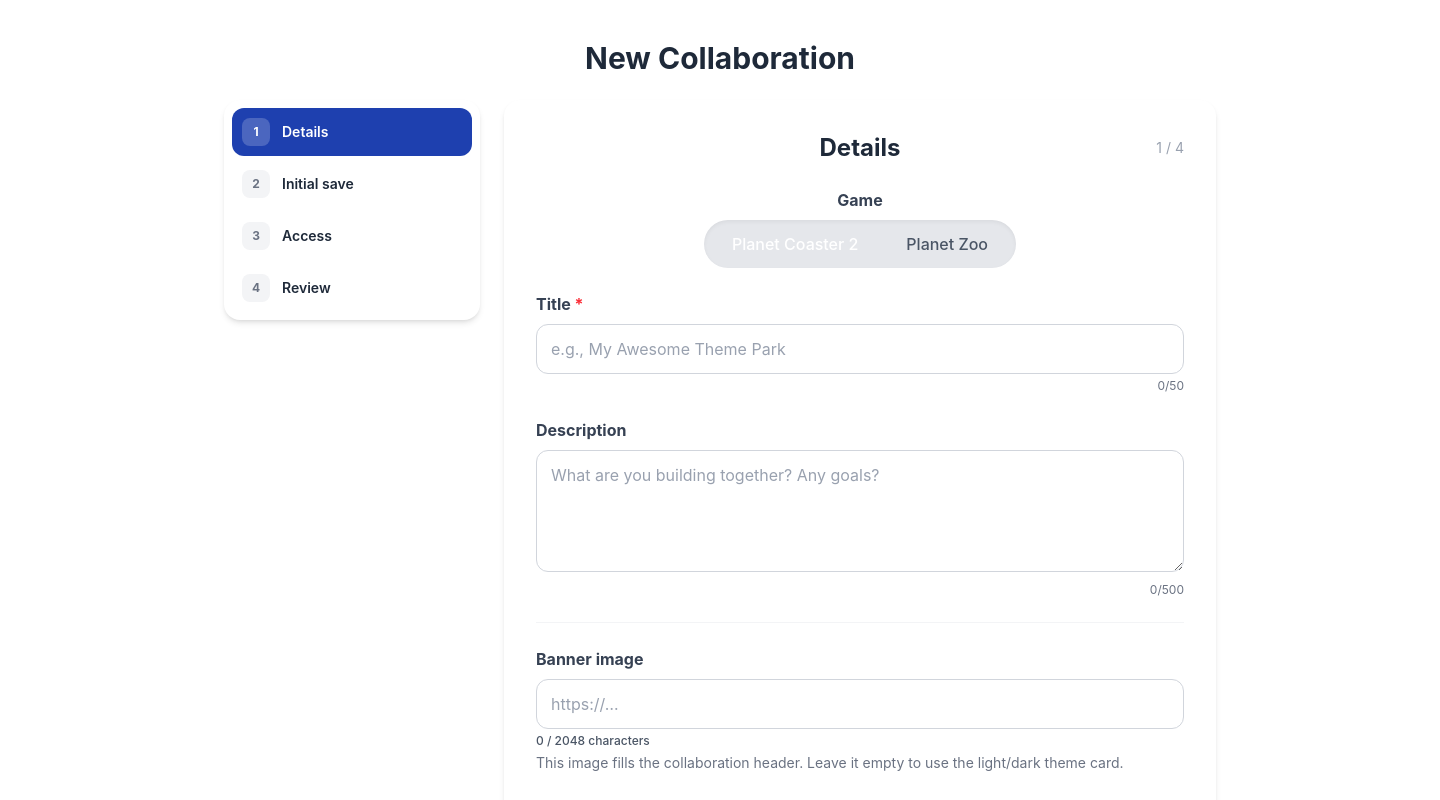
Test: CreateCollaborationForm › uses the normal creation file selector for the required initial save
The image size is (1440, 800).
Click the button "2 Initial save" at (352, 184), box [232,160,472,208]
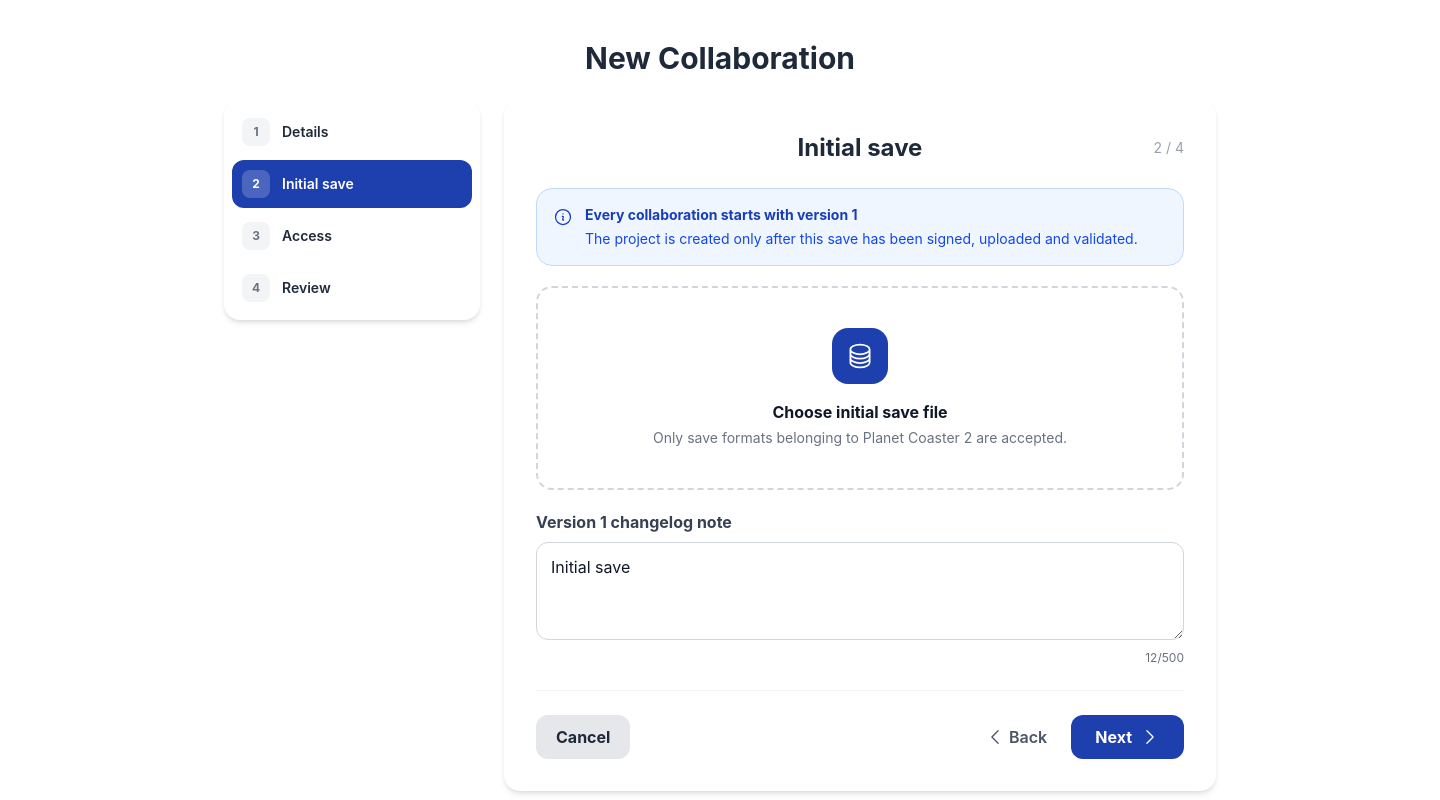
Click the button "Choose initial save file" at (860, 356), box [536,286,1184,490]
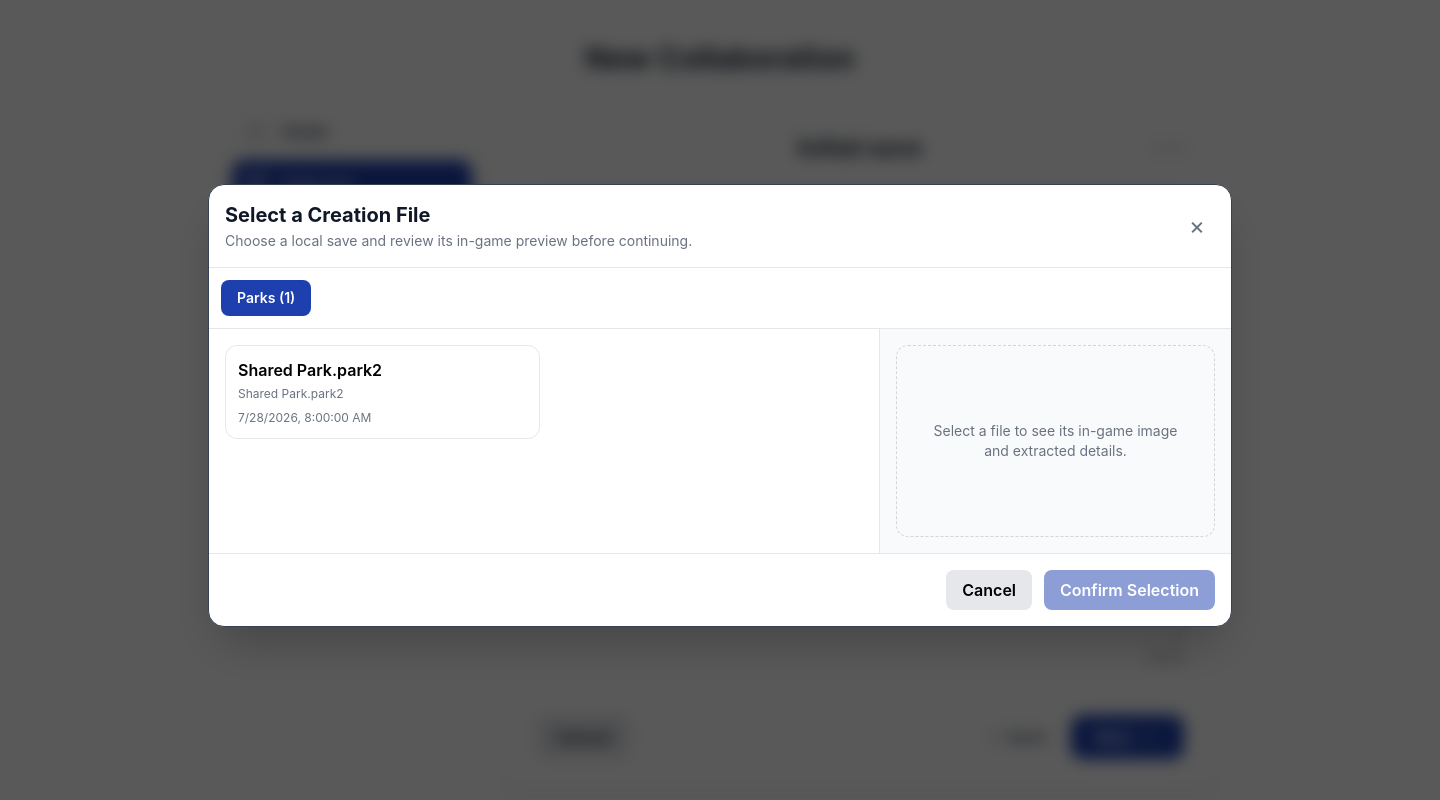
Expected: the heading "Select a Creation File" is shown, [225,202,430,226]
Click the button "Shared Park.park2 Shared Park.park2 7/28/2026, 8:00:00 AM" at (310, 370), box [225,344,540,438]
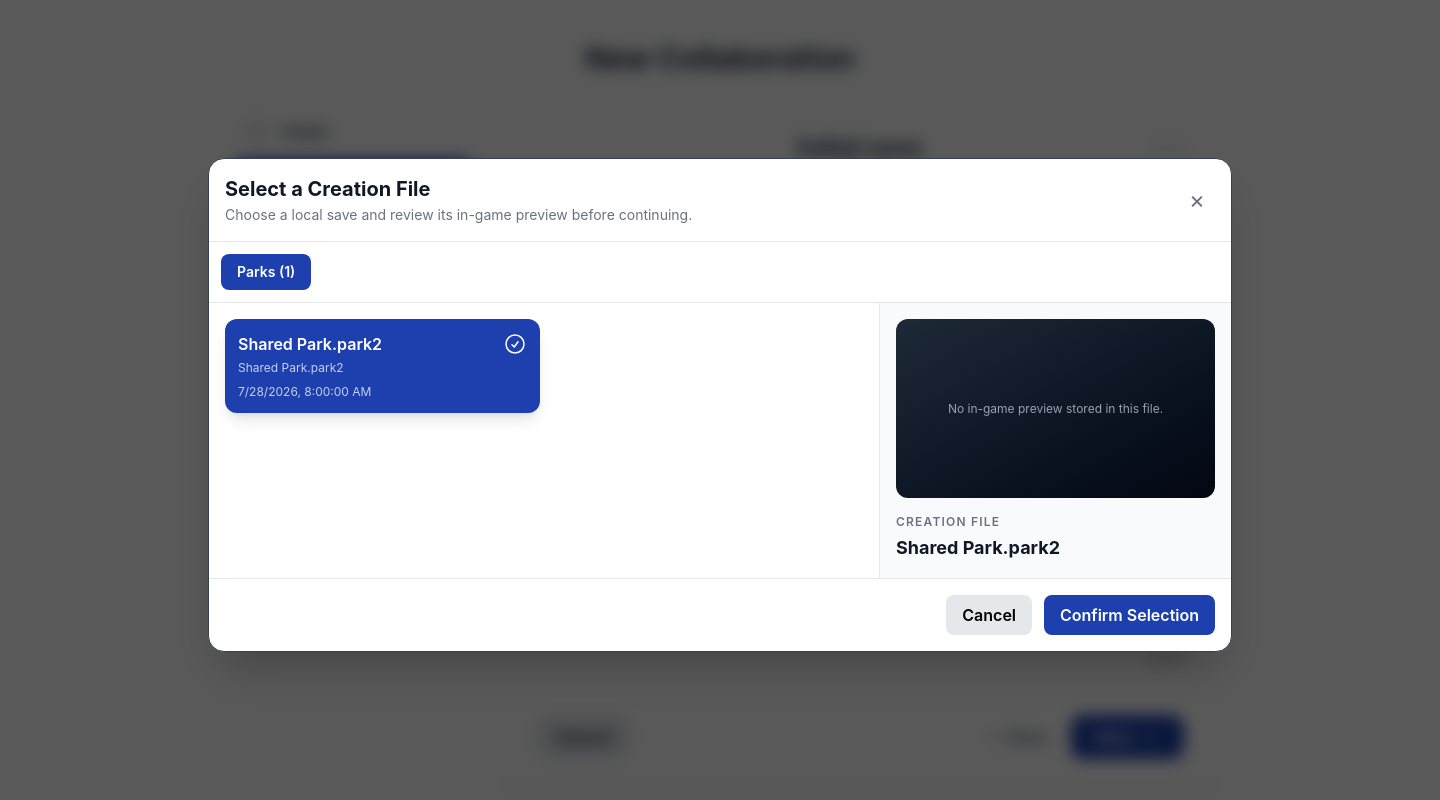
Click the button "Confirm Selection" at (1130, 615), box [1044,595,1215,635]
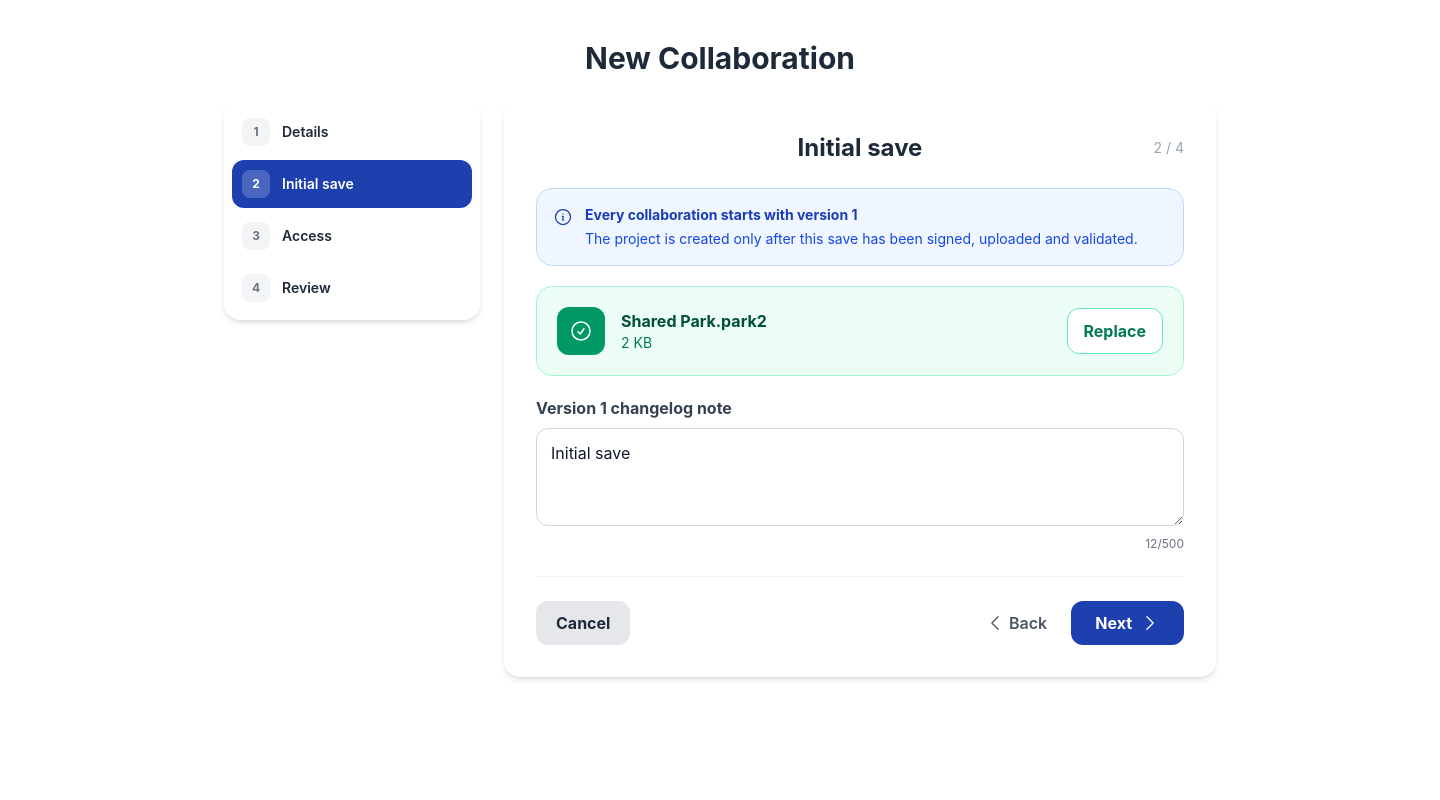
Expected: the text "Shared Park.park2" is shown, [621,311,767,331]
Expected: the heading "Select a Creation File" is gone
Expected: the text "2 KB" is shown, [621,334,652,351]
